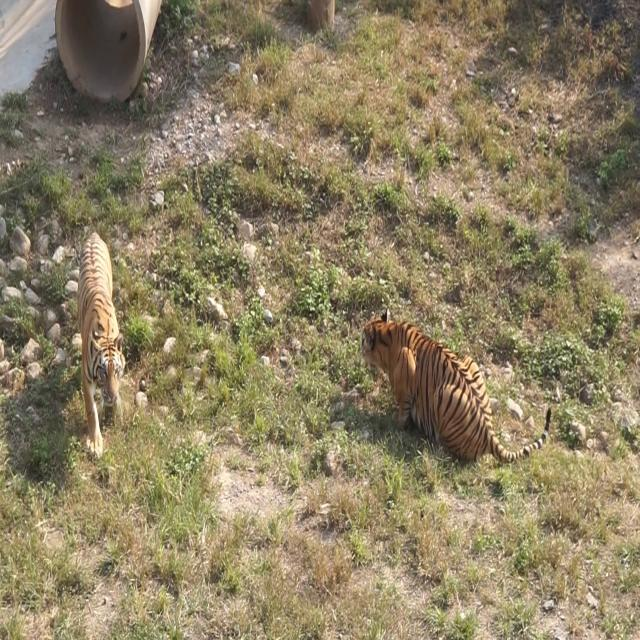Tiger: (361, 306, 550, 460), (60, 222, 141, 473)
